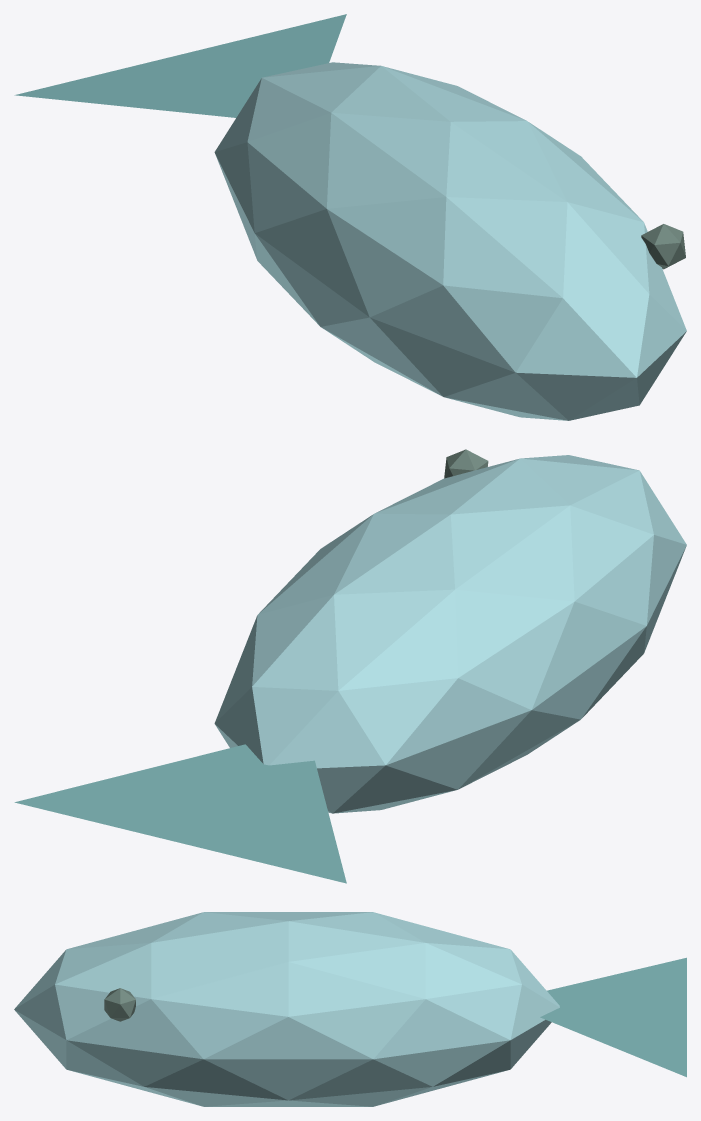
Rendered from cargo_fish.fbx.
3 views of the same model, one above another, from view 1: azimuth 30°, elevation 25°; view 2: azimuth 150°, elevation 25°; view 3: azimuth 270°, elevation 25° (orthographic). The views are drawn at different scales.
Visible parts, largest first — view 1: cargo_fish_mesh; view 2: cargo_fish_mesh; view 3: cargo_fish_mesh.
Part boxes in pixels (x1=…): cargo_fish_mesh: x1=14, y1=14, x2=686, y2=420; cargo_fish_mesh: x1=14, y1=449, x2=686, y2=883; cargo_fish_mesh: x1=14, y1=912, x2=686, y2=1106.
Bounding box in the file's own units: 0.32 × 0.22 × 0.76.
